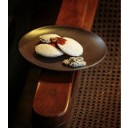idly: (58, 35, 85, 56), (33, 42, 62, 56), (38, 30, 60, 43)
